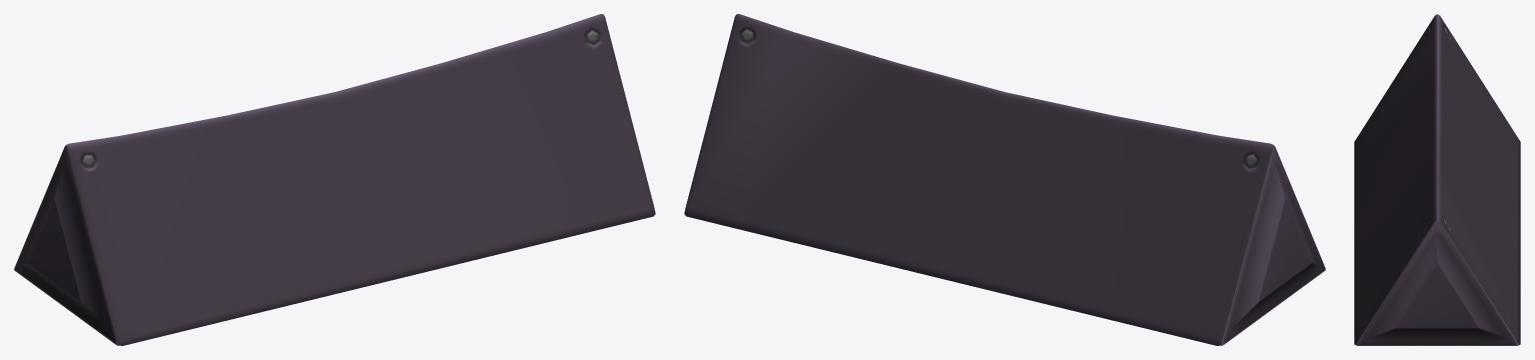
File: HaH_NamePlate.obj
The picture shows the model from 3 angles, left to right: view 1: azimuth 30°, elevation 25°; view 2: azimuth 150°, elevation 25°; view 3: azimuth 270°, elevation 25°; orthographic projection. The views are drawn at different scales.
Visible parts, largest first — view 1: textureBakeSet1_NamePlate_01; view 2: textureBakeSet1_NamePlate_01; view 3: textureBakeSet1_NamePlate_01.
Boxes of the visible parts, box(x1,y1,x2,y2) form: textureBakeSet1_NamePlate_01: box(14, 14, 655, 345); textureBakeSet1_NamePlate_01: box(684, 14, 1325, 345); textureBakeSet1_NamePlate_01: box(1354, 14, 1520, 345).
Size of the model in its own units: 35.23 by 9.81 by 11.6.
Materials: 1 (1 with a texture image).
